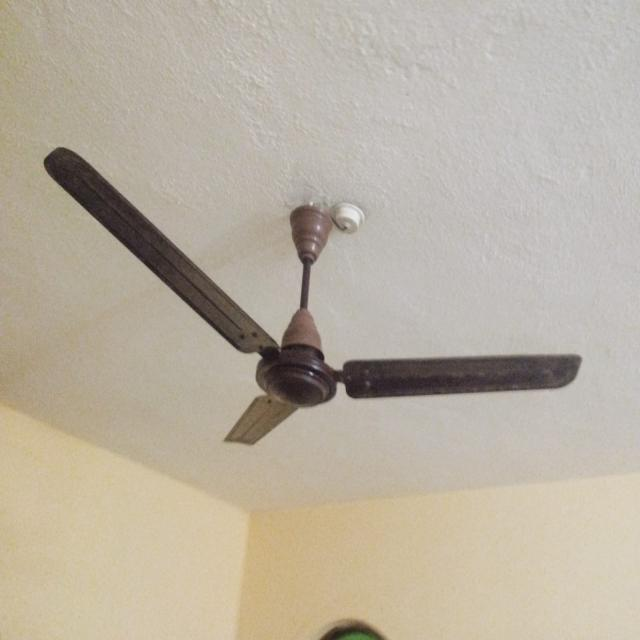fan_off: (44, 141, 581, 450)
